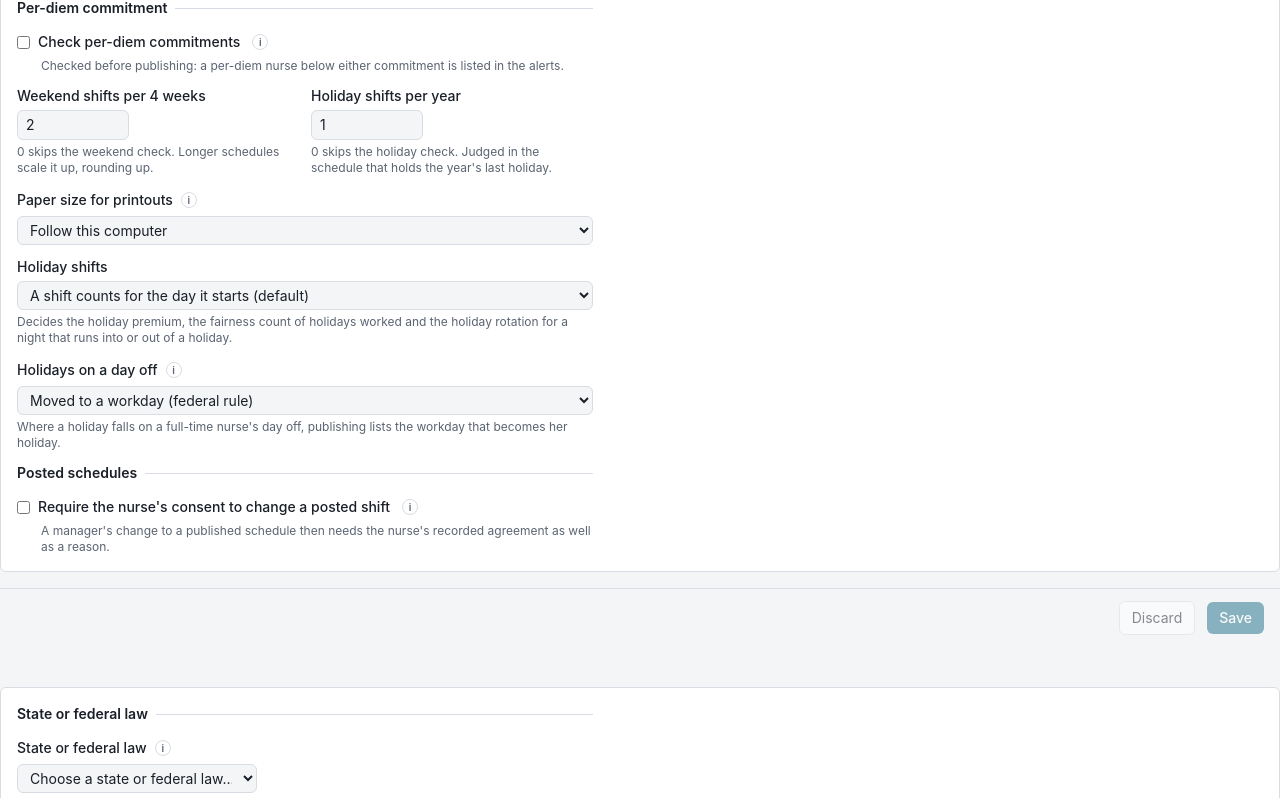
Test: Settings › Unit holidays on a day off › puts the saved setting back on Discard
(page scrolled)
Expected: the button "Discard" is disabled, [1119,601,1195,635]
Select "Not moved" in the dropdown labelled "Holidays on a day off" at (305, 400), box [17,386,593,415]
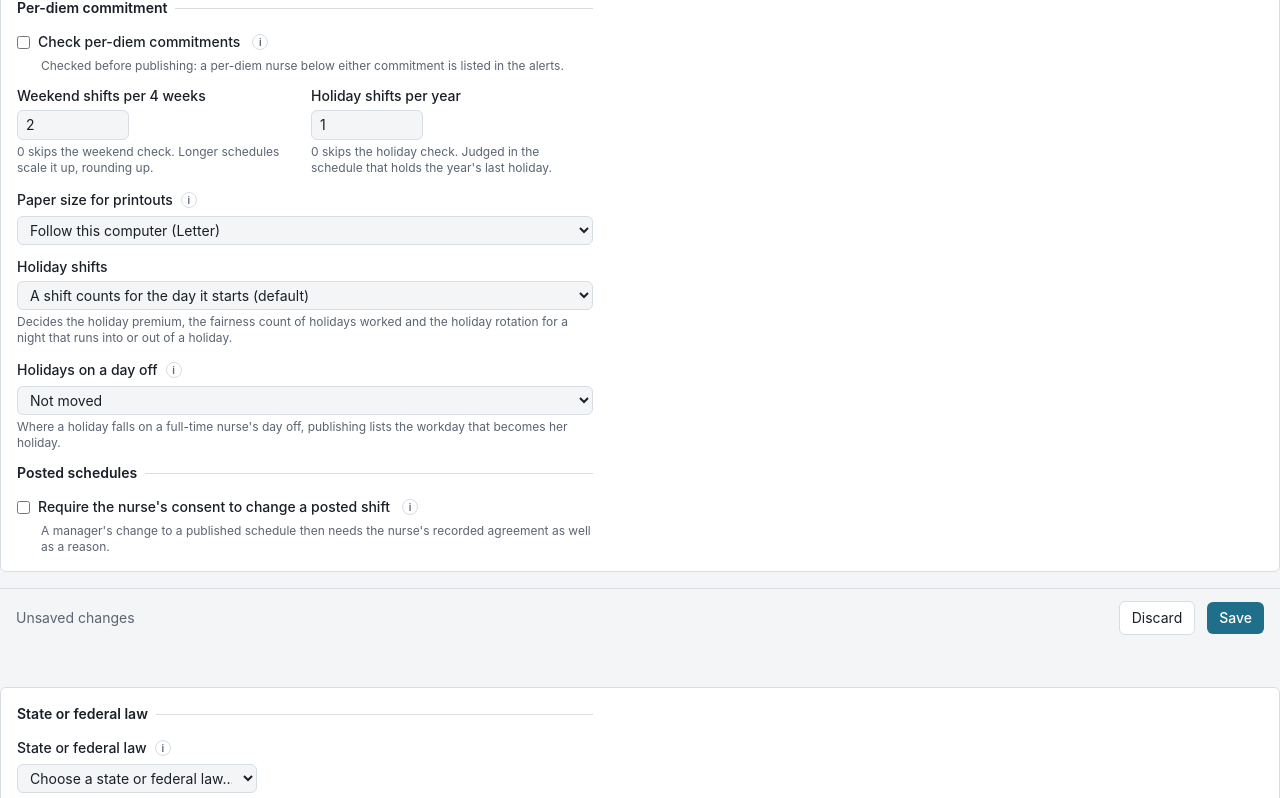
Expected: the button "Discard" is enabled
Click the button "Discard" at (1157, 618), box [1119,601,1195,635]
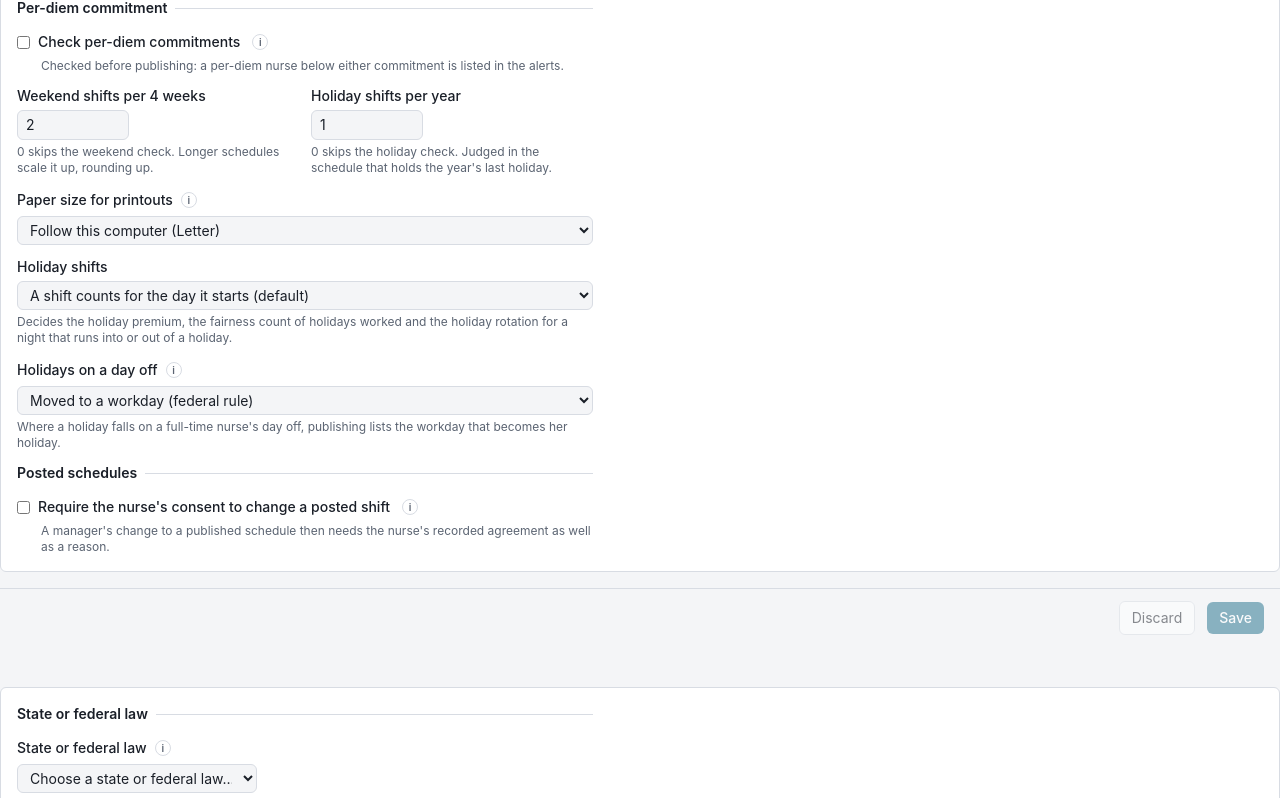
Expected: the button "Discard" is disabled, [1119,601,1195,635]
